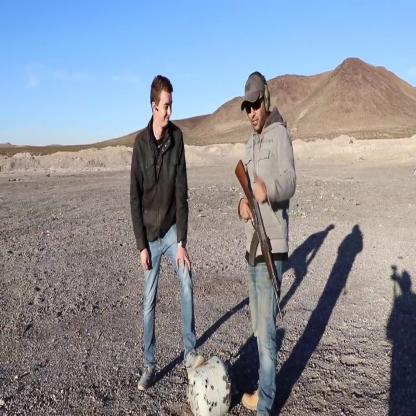long weapon: (228, 161, 290, 324)
